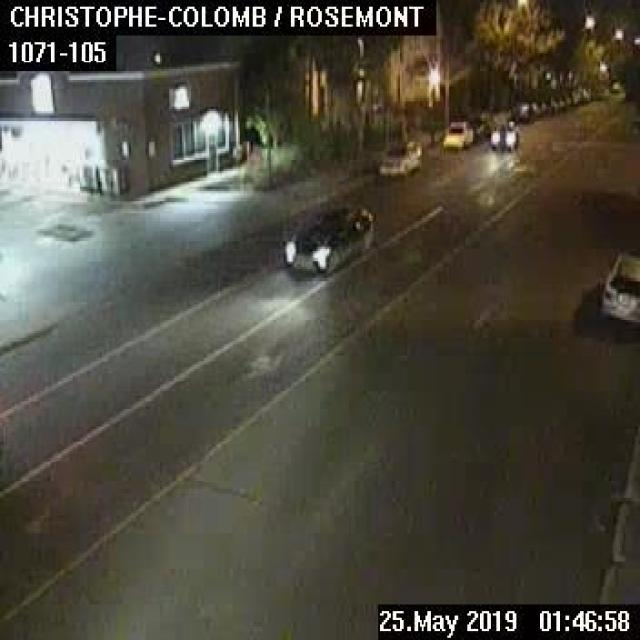vehicle: (283, 204, 373, 274), (600, 251, 638, 323), (378, 138, 421, 176), (443, 121, 471, 147), (491, 125, 517, 148), (508, 102, 532, 121), (471, 115, 489, 140)
